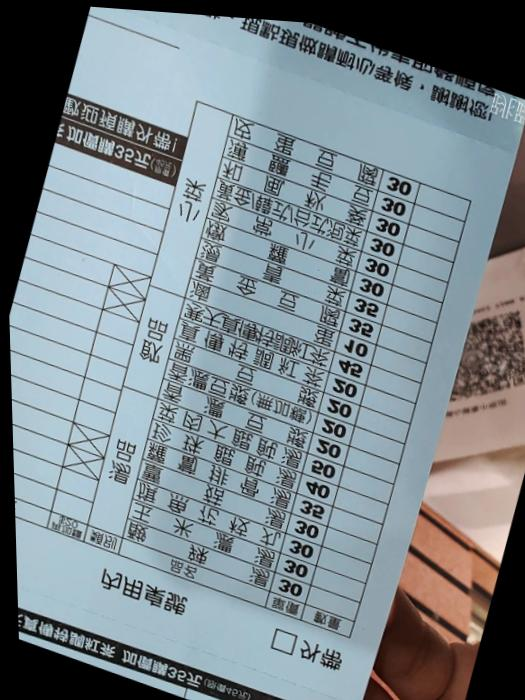paper: (10, 0, 524, 699)
